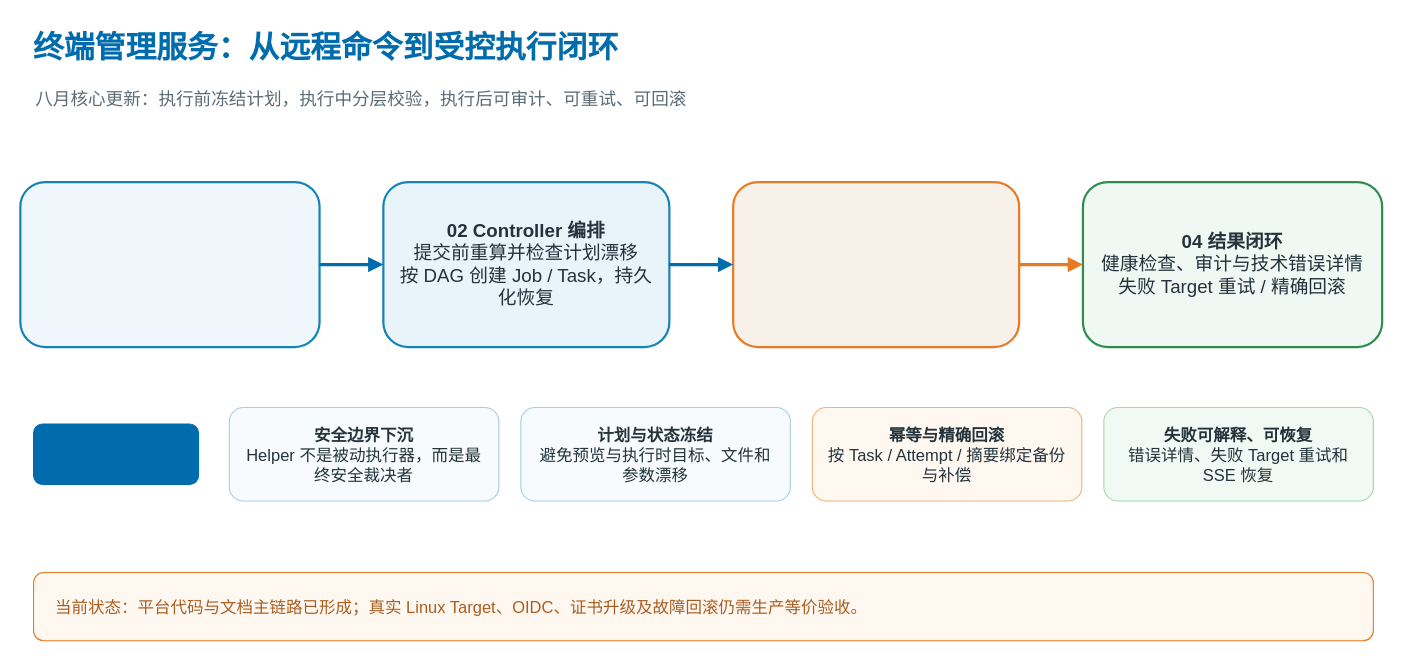
Some shapes in this 1401 by 660 pixel diagram are drawn without their labels. The centre of each missing label's shape, as x and y in pixels:
"01 计划冻结 Preview 生成逐 Target 执行计划 冻结 Target / Action / 参数 / Artifact" goes at [169,264].
"03 Agent / Helper 执行 Agent 主动 mTLS 连接 Helper 复核路径、签名、权限和本机策略" goes at [876,264].
"四个特点" goes at [115,454].
